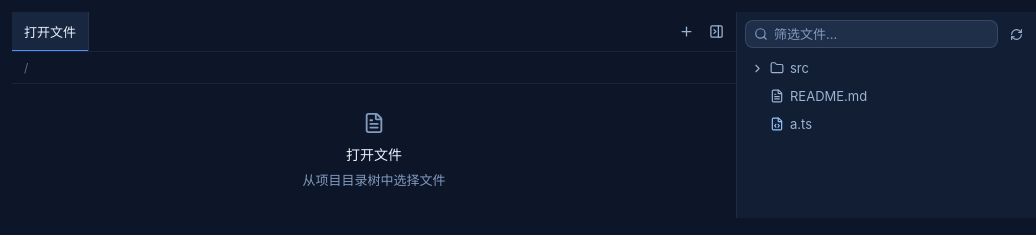
Test: FilesPane › opens files as tabs with a breadcrumb; 「+」 adds a draft and focuses the filter
Click the list item with class "file-tree-row" showing "README.md": (829, 96) [743,82,1030,110]
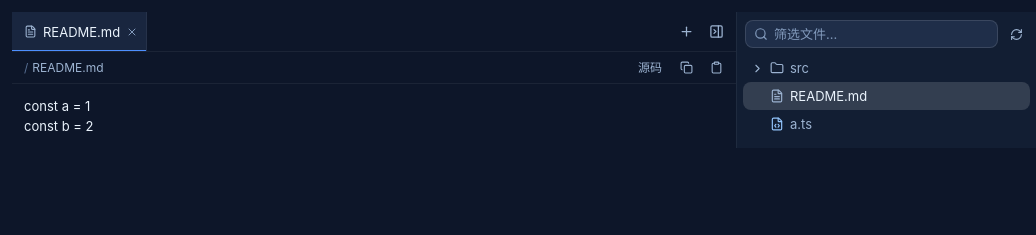
Check: the navigation bar with class "file-crumbs" shows "README.md", box [32,60,104,74]
Click the button named "打开文件": (686, 32) [672,18,700,46]
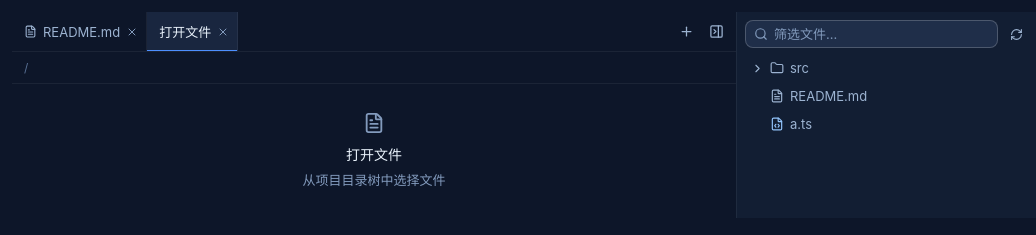
Check: the element with class "files-empty" is shown, box [302,112,446,188]
Picking a file while the draft is active replaces the draft.
Click the list item with class "file-tree-row" showing "a.ts": (777, 124) [743,110,1030,138]
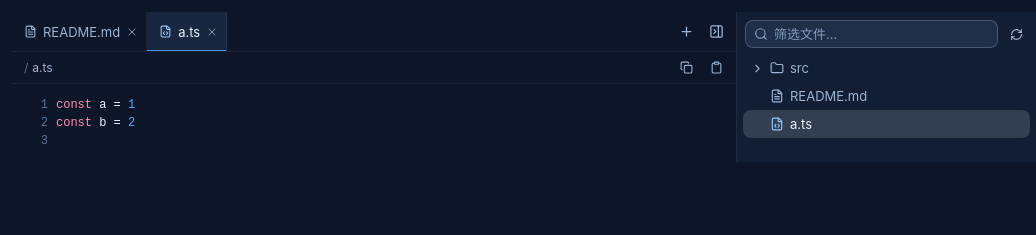
Check: the element with class "file-tab" reads "a.ts", box [147,12,204,51]
